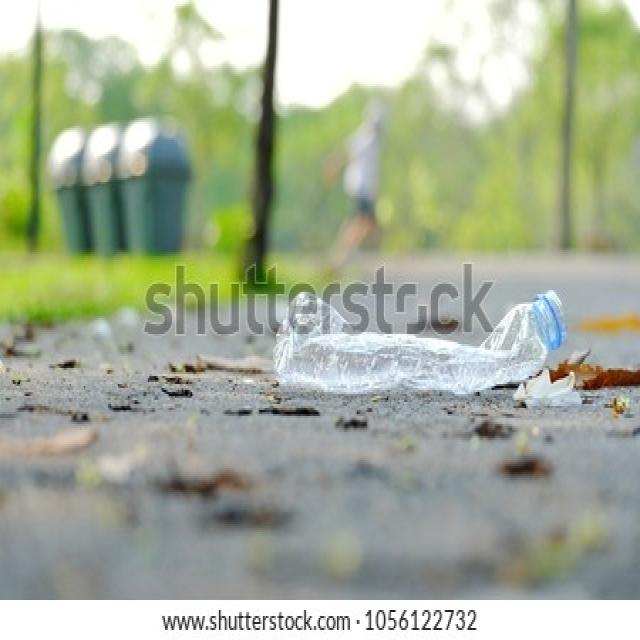plastic_bottle: (272, 287, 568, 395)
